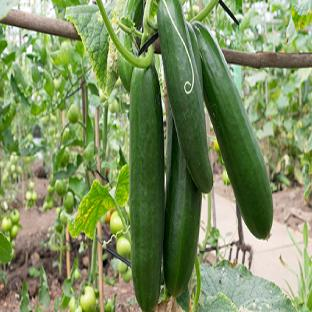Cucumber: (193, 23, 272, 238), (130, 65, 164, 311), (163, 108, 201, 297)
Tomato: (80, 286, 95, 311), (110, 212, 123, 235), (117, 237, 131, 257), (63, 192, 74, 214), (68, 104, 79, 123), (55, 180, 66, 196), (2, 216, 12, 231), (61, 149, 69, 167), (122, 267, 131, 282), (109, 99, 118, 114), (10, 210, 20, 223), (62, 128, 70, 143), (118, 260, 127, 273), (223, 169, 230, 185), (10, 225, 18, 239), (69, 297, 76, 311), (60, 212, 67, 226), (55, 219, 62, 232), (99, 89, 106, 101), (54, 78, 61, 90), (105, 299, 112, 311), (47, 184, 54, 194), (115, 77, 121, 88), (42, 201, 48, 212), (41, 116, 48, 125), (10, 154, 17, 163), (74, 270, 81, 279), (214, 140, 219, 152), (50, 115, 56, 124), (47, 201, 53, 210), (32, 192, 37, 201), (26, 192, 31, 201), (27, 134, 33, 141), (29, 181, 34, 189), (3, 202, 8, 210), (17, 166, 22, 174), (25, 156, 31, 162), (75, 306, 82, 311), (11, 164, 15, 172), (11, 240, 15, 248), (56, 207, 60, 215), (0, 161, 4, 168), (13, 172, 17, 179)
